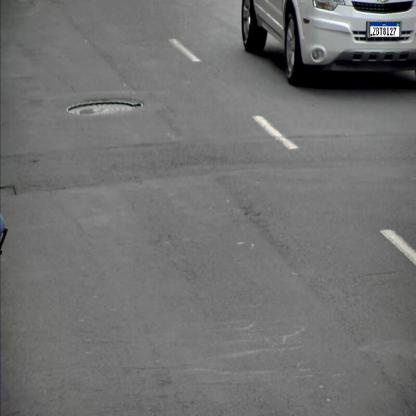PlacaM: (370, 22, 400, 38)
